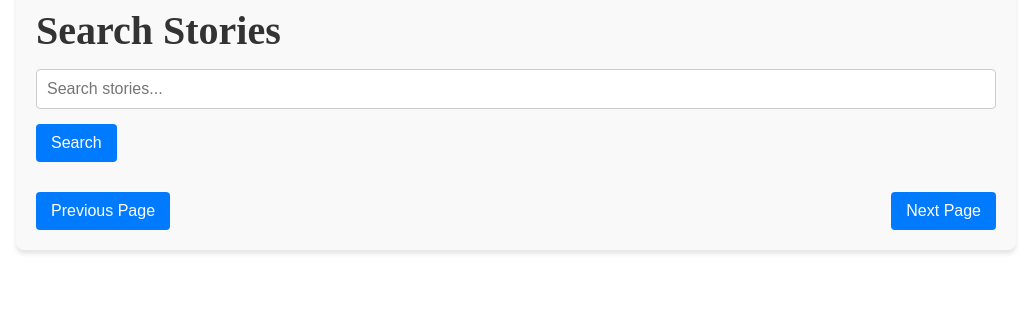
Test case: SearchStories Component › should correctly fetch and display stories based on the search query
Type "React" into the field with placeholder "Search stories..." at (516, 89), box [36,69,996,109]
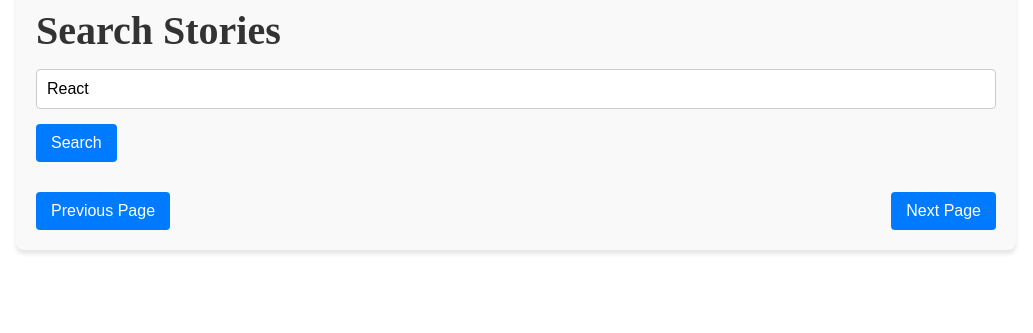
Click the button "Search" at (76, 143), box [36,124,117,162]
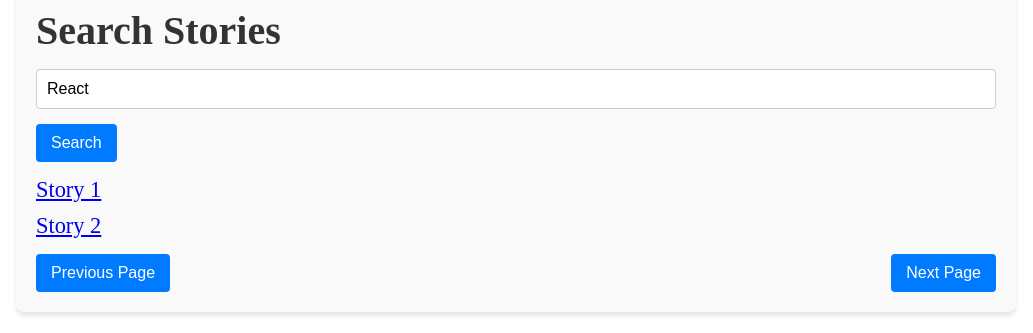
Check: the link "Story 1" is shown, box [36,177,101,202]
Check: the link "Story 2" is shown, box [36,213,101,238]
